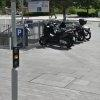Motorcycle: (34, 21, 93, 50)
